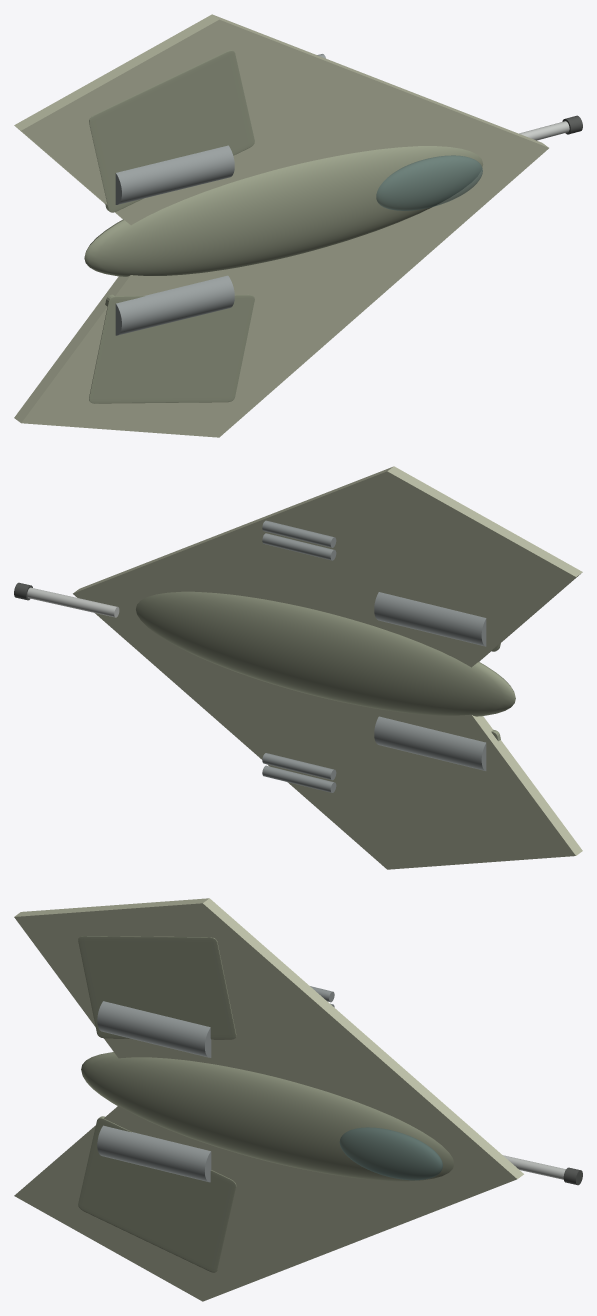
File: v-x06-vanguard-reserveStrike-lod1.glb
3 renders of one model, top to bottom at view 1: azimuth 30°, elevation 25°; view 2: azimuth 150°, elevation 25°; view 3: azimuth 330°, elevation 25°, orthographic. The views are drawn at different scales.
Parts seen in each view (by area): view 1: flying_wing_planform, flying_wing_core, flying_wing_elevon_1, flying_wing_elevon_-1, flying_wing_canopy, flying_wing_engine_0, flying_wing_engine_1; view 2: flying_wing_planform, flying_wing_core, flying_wing_engine_1, flying_wing_engine_0, flying_wing_gun_barrel_0, flying_wing_1_tube_1, flying_wing_1_tube_2, flying_wing_-1_tube_1, flying_wing_-1_tube_2; view 3: flying_wing_planform, flying_wing_core, flying_wing_elevon_1, flying_wing_elevon_-1, flying_wing_canopy, flying_wing_engine_0, flying_wing_engine_1, flying_wing_gun_barrel_0.
Boxes of the visible parts, <box> form: flying_wing_planform: <box>14,14,548,437</box>; flying_wing_core: <box>84,146,483,276</box>; flying_wing_elevon_1: <box>89,50,254,212</box>; flying_wing_elevon_-1: <box>89,294,254,403</box>; flying_wing_canopy: <box>376,155,482,210</box>; flying_wing_engine_0: <box>115,275,234,335</box>; flying_wing_engine_1: <box>115,145,234,204</box>; flying_wing_planform: <box>73,466,582,869</box>; flying_wing_core: <box>136,591,515,716</box>; flying_wing_engine_1: <box>374,592,486,646</box>; flying_wing_engine_0: <box>374,716,486,770</box>; flying_wing_gun_barrel_0: <box>27,587,119,617</box>; flying_wing_1_tube_1: <box>262,533,336,560</box>; flying_wing_1_tube_2: <box>262,520,336,547</box>; flying_wing_-1_tube_1: <box>262,765,336,792</box>; flying_wing_-1_tube_2: <box>262,753,336,780</box>; flying_wing_planform: <box>14,898,523,1301</box>; flying_wing_core: <box>81,1052,454,1181</box>; flying_wing_elevon_1: <box>78,936,236,1039</box>; flying_wing_elevon_-1: <box>78,1116,236,1272</box>; flying_wing_canopy: <box>339,1127,442,1180</box>; flying_wing_engine_0: <box>97,1125,211,1182</box>; flying_wing_engine_1: <box>97,1001,211,1057</box>; flying_wing_gun_barrel_0: <box>503,1155,565,1179</box>.
Size of what is drawn, in the model's own units: 15.59 by 10.82 by 1.62.
